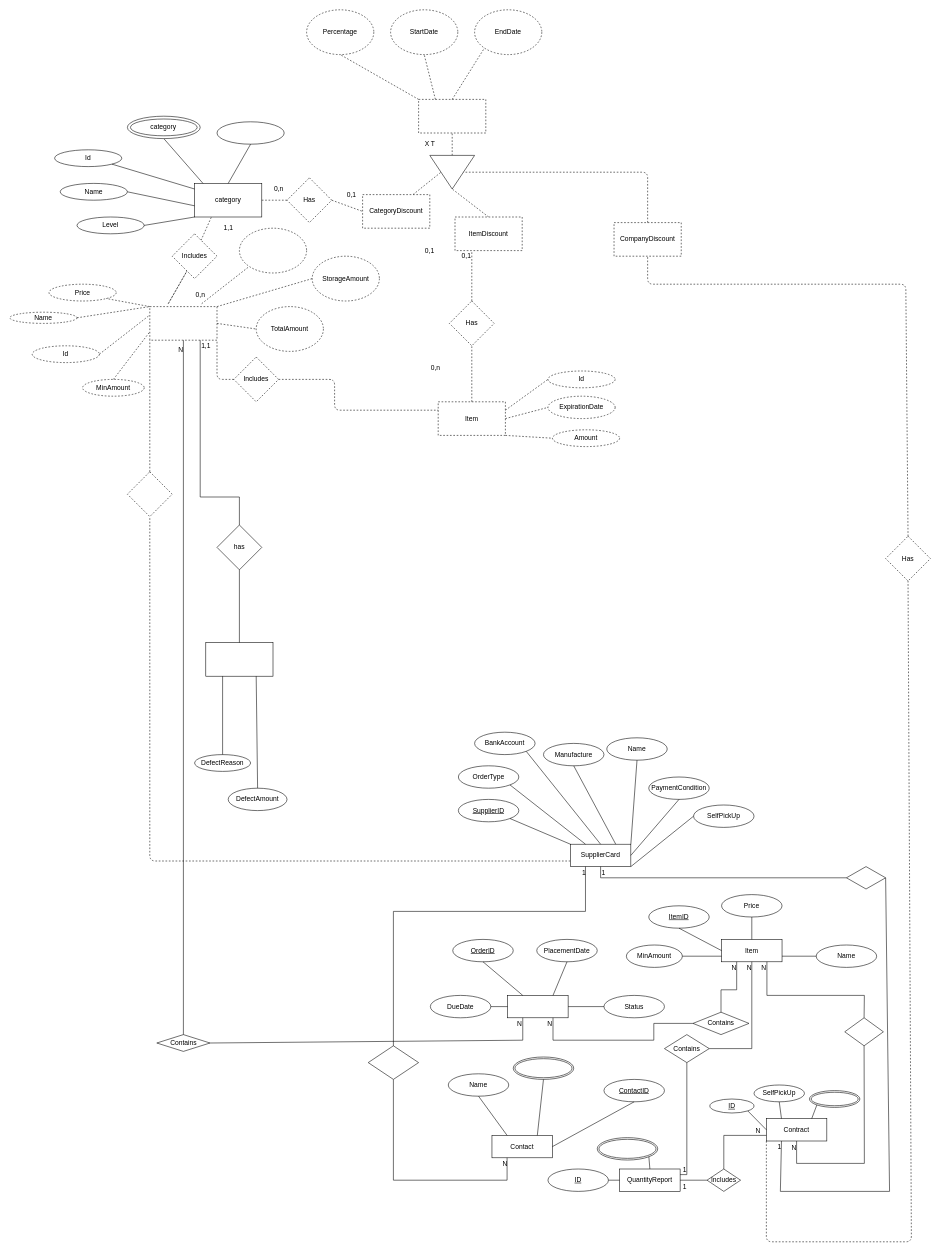
This 940x1252 diagram has some shape labels left out. Here are the shapes that lost their labels. From the top down, the box of each, then its label:
(216, 121, 284, 144): Serial
(418, 99, 486, 133): Discount
(429, 155, 475, 189): ISA
(239, 228, 307, 273): StroreAmount
(149, 306, 217, 340): ItemSpecs
(127, 471, 172, 517): Produce
(205, 642, 273, 676): DefectReport
(846, 866, 886, 889): Associated with
(507, 995, 568, 1018): Order
(844, 1017, 883, 1046): Details
(368, 1045, 419, 1079): Represents
(513, 1056, 574, 1079): ContactDetails
(809, 1090, 860, 1107): Items
(597, 1137, 658, 1160): Discounts
